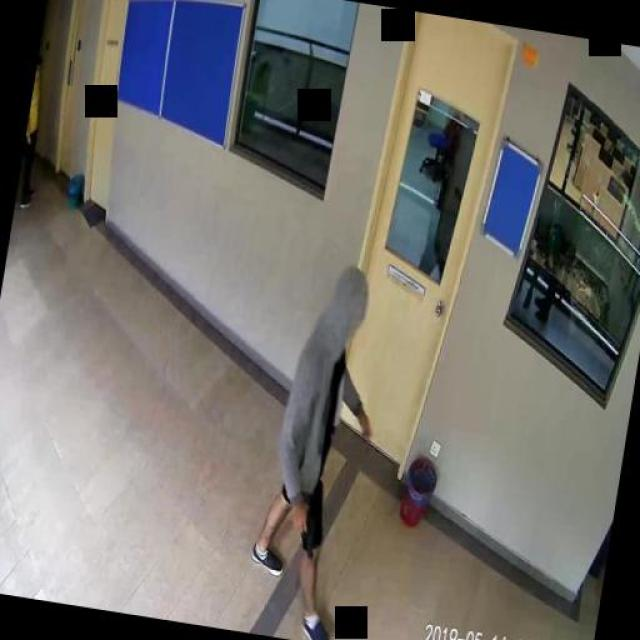gun: (285, 507, 319, 558)
